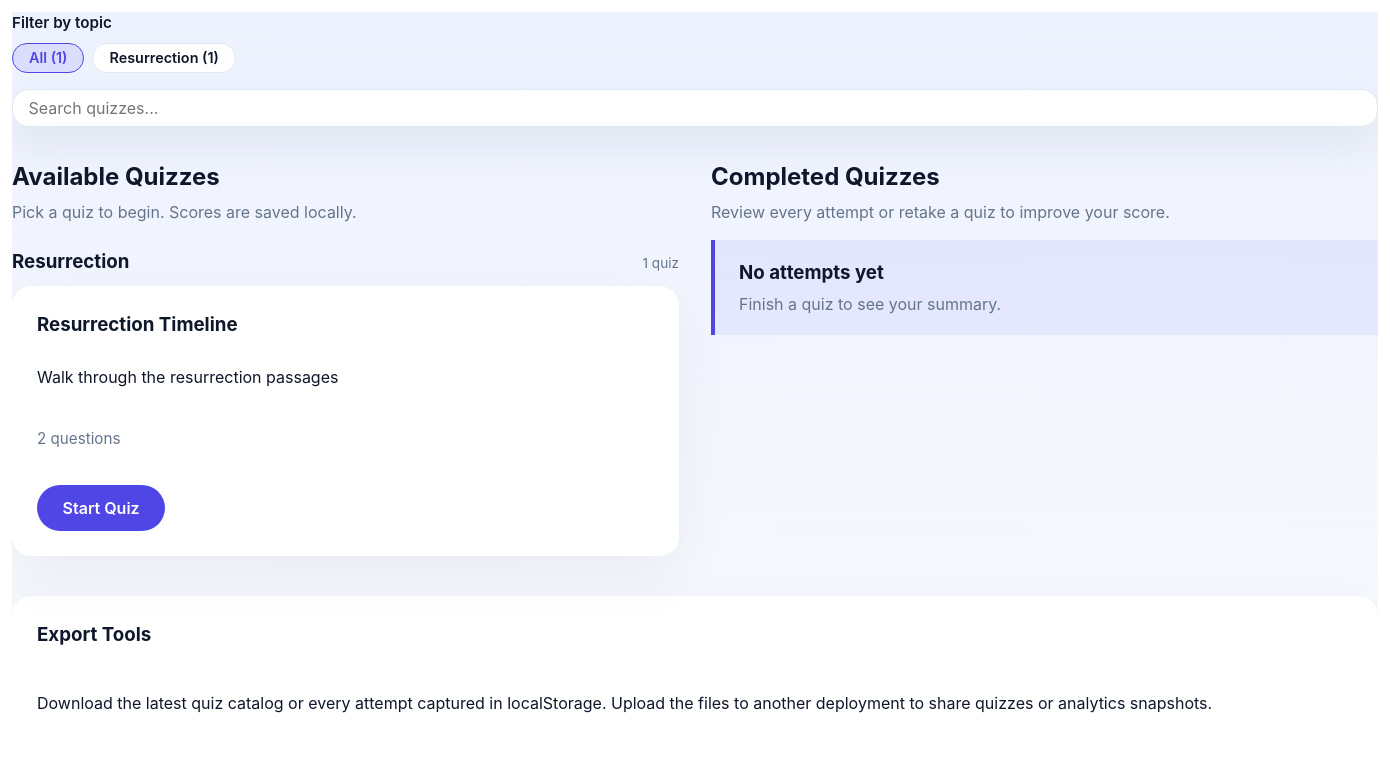
Scenario: QuizListPage › shows a no results message when search terms match nothing (case-insensitive)
This screenshot has width=1390, height=757.
Type "RESURRECTION" into the search field with placeholder "Search quizzes...".
click(695, 108); type("RESURRECTION")  # box [27, 97, 1363, 119]
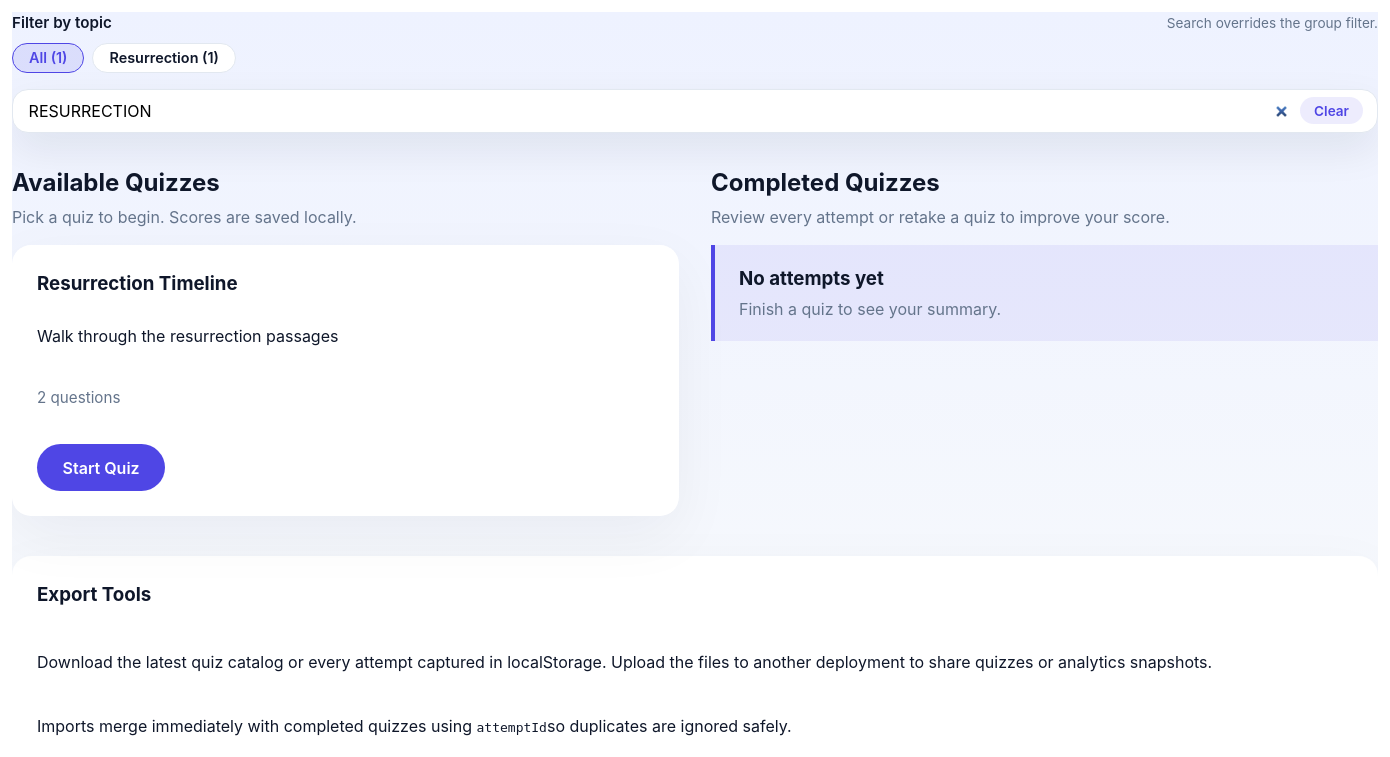
Expected: the heading "Resurrection Timeline" is shown, [37, 272, 238, 295]
Clear the search field with placeholder "Search quizzes..." at point(659, 111), box [27, 100, 1292, 122]
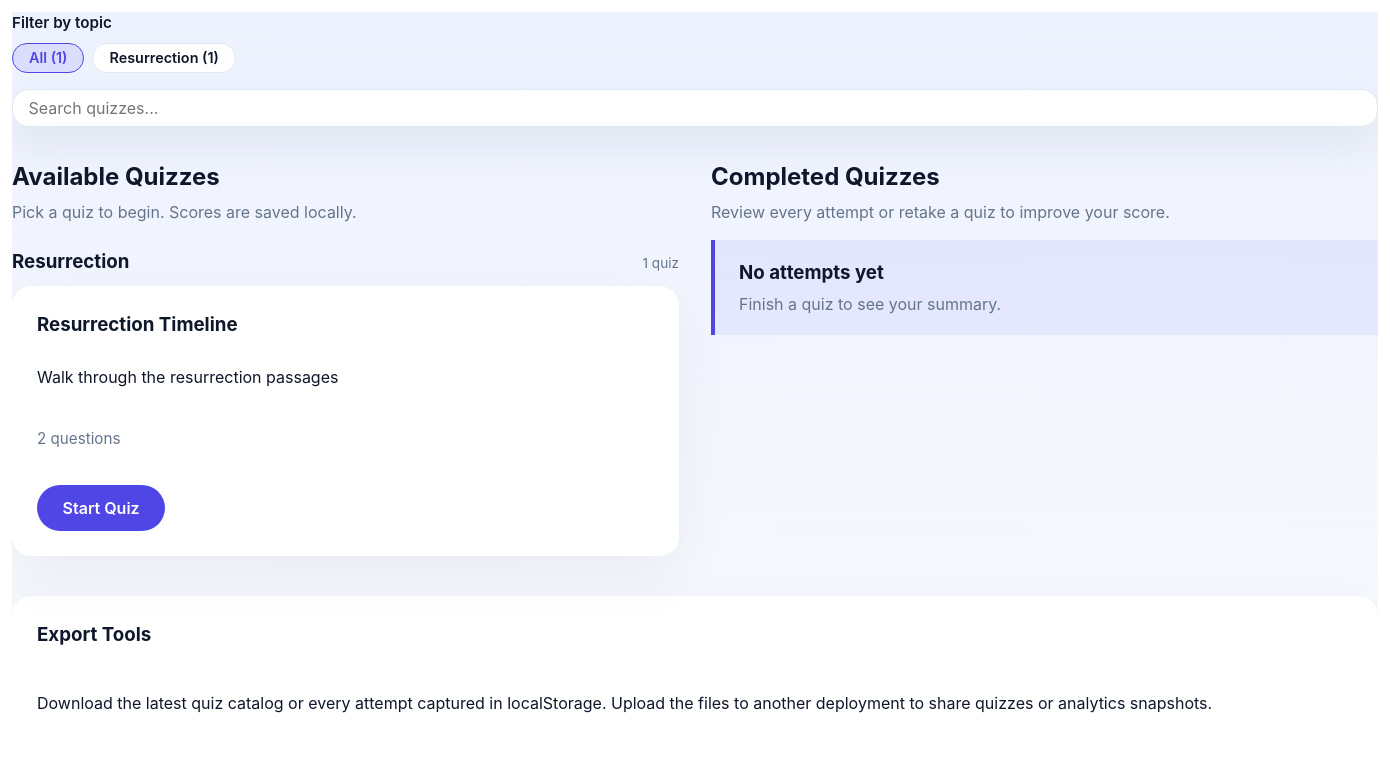
Type "no matches please" into the search field with placeholder "Search quizzes...".
click(695, 108); type("no matches please")  # box [27, 97, 1363, 119]
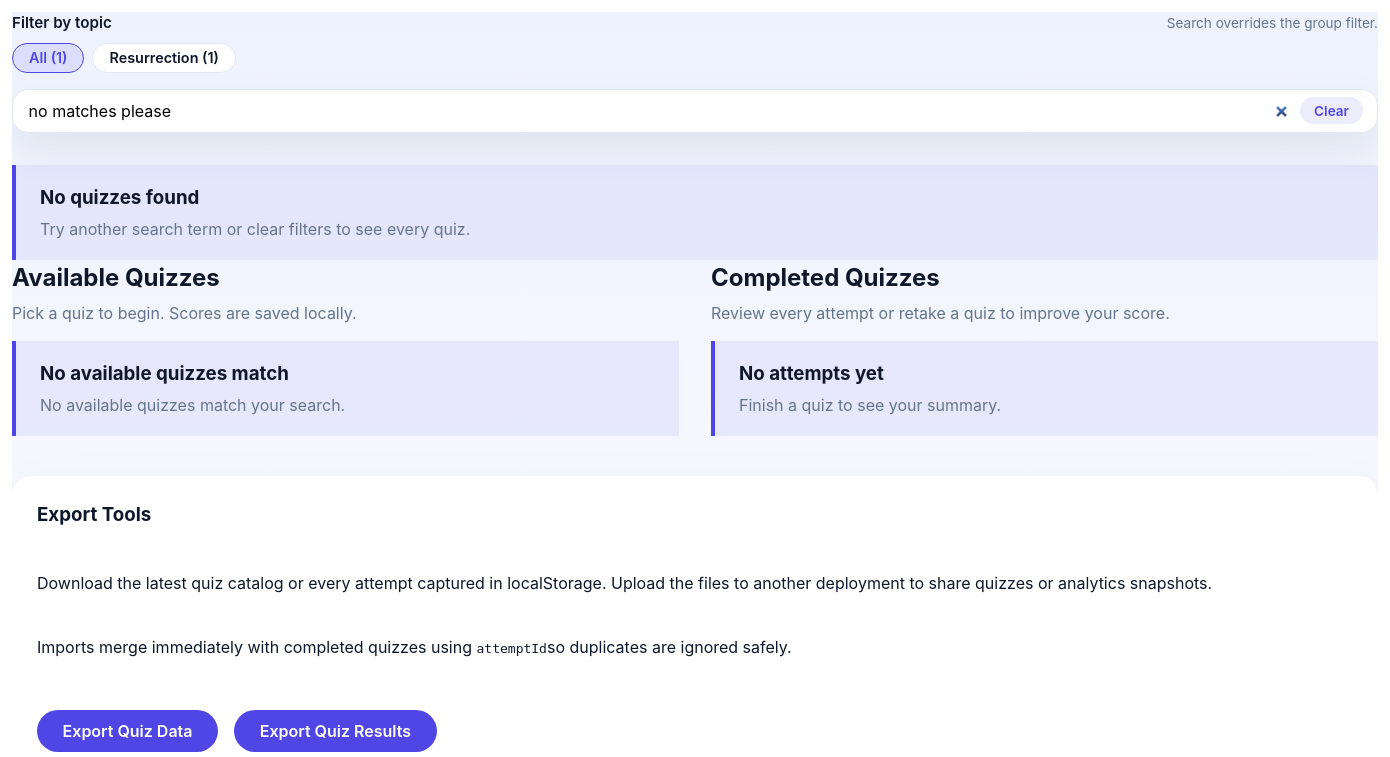
Now the heading "No quizzes found" is shown, box [40, 186, 199, 209]
